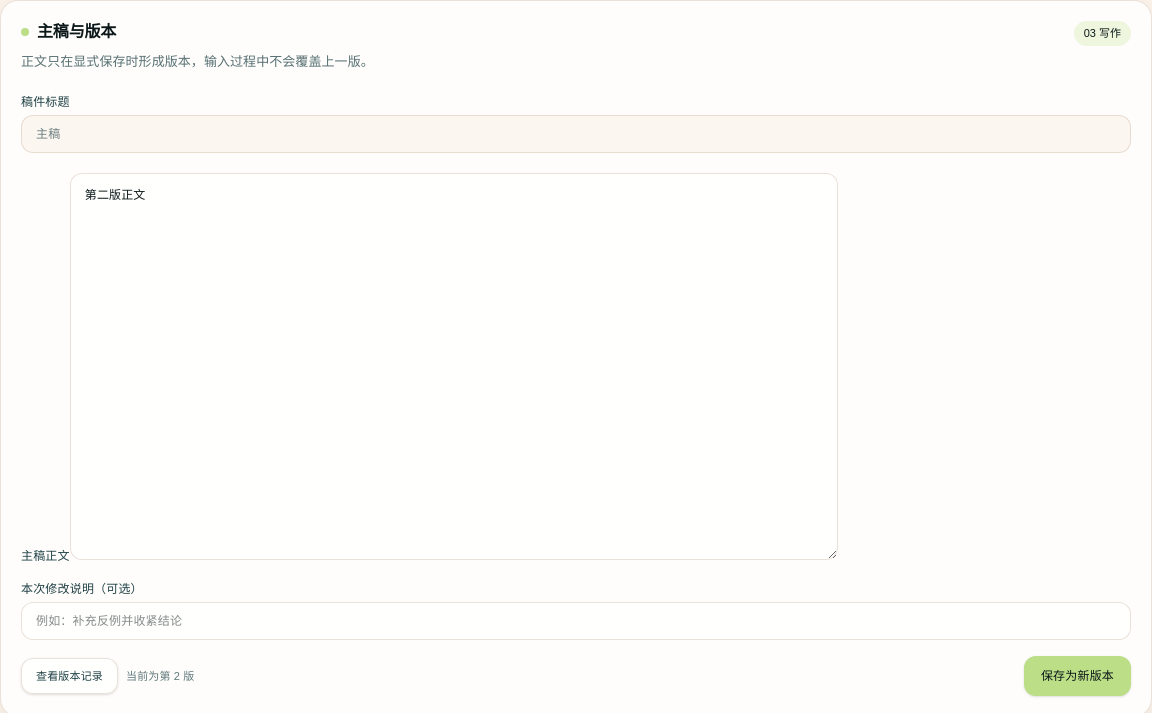
Test: ProjectDraftEditor › 旧版本可以查看并只载入本地编辑区
This screenshot has width=1152, height=713.
Click the button "查看版本记录" at (70, 676), box [21, 658, 118, 694]
(page scrolled)
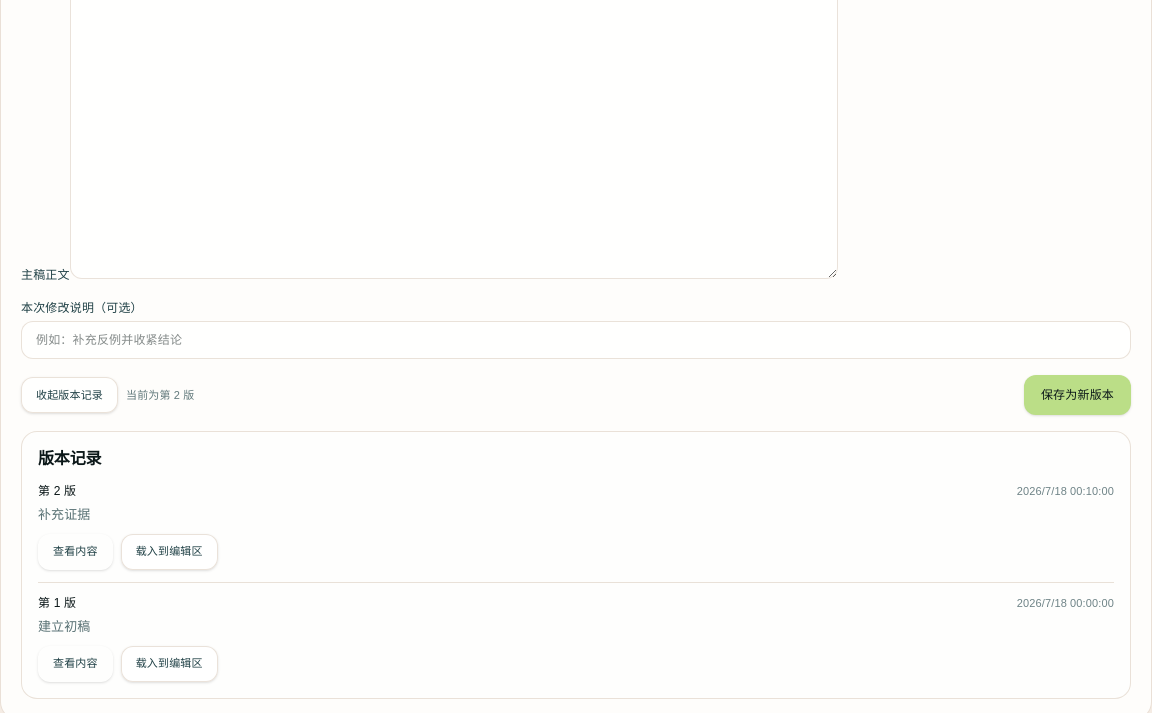
Click the button "查看内容" below "建立初稿" at (75, 664), box [38, 646, 113, 682]
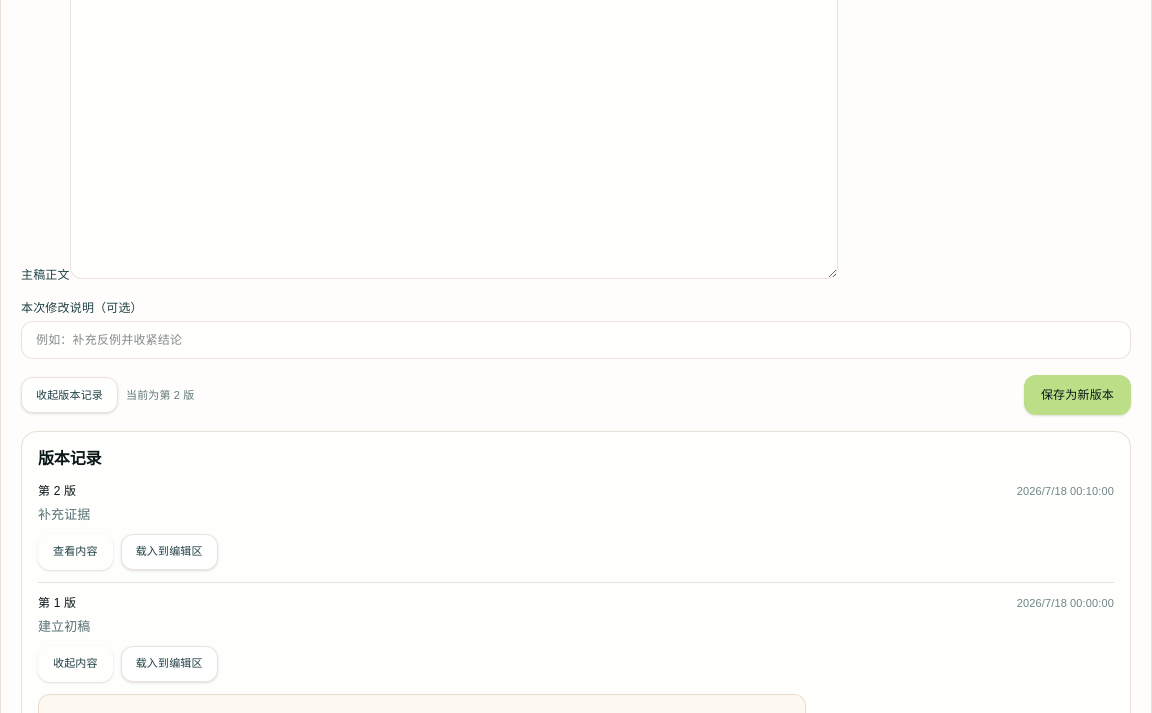
Click the button "载入到编辑区" below "建立初稿" at (169, 664), box [121, 646, 218, 682]
(page scrolled)
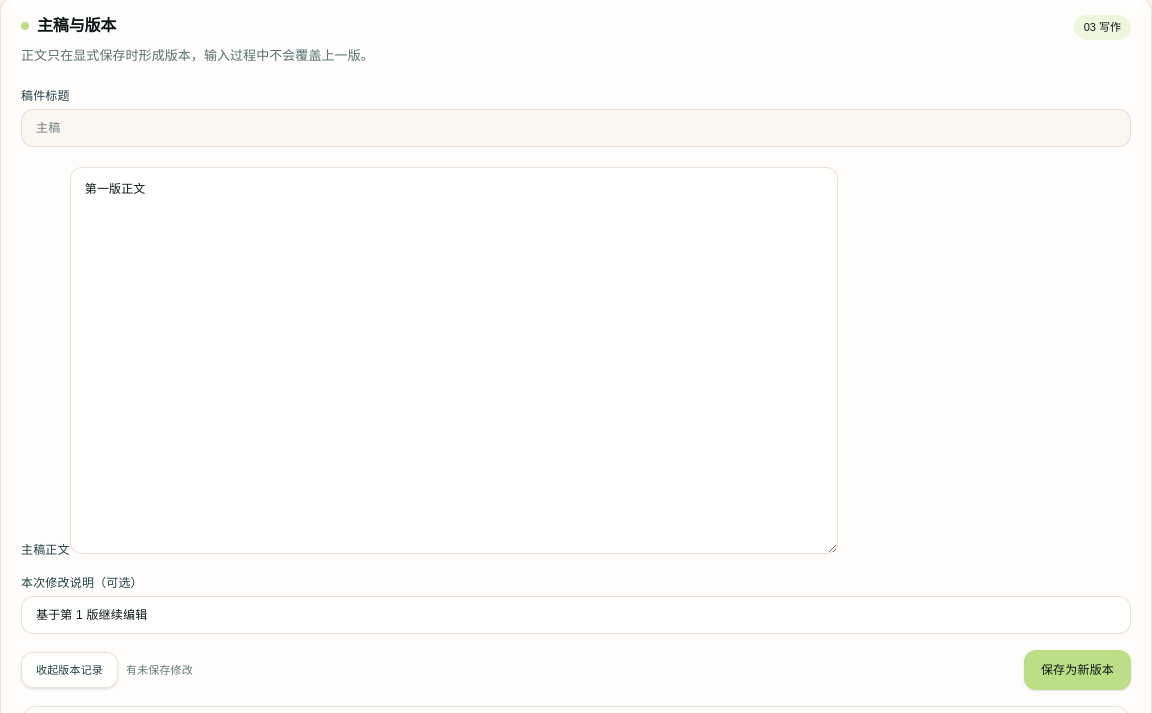
Check: the text box showing "第一版正文" is shown, box [70, 167, 838, 554]
